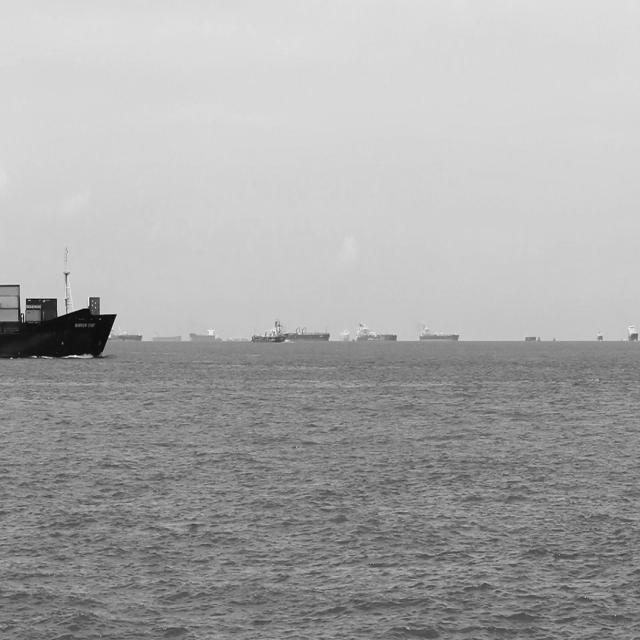ship: (0, 243, 116, 362), (356, 316, 398, 344), (415, 322, 462, 344), (105, 322, 144, 346), (284, 325, 331, 343), (250, 322, 286, 344), (187, 325, 223, 345), (622, 319, 640, 347), (148, 333, 184, 346), (522, 328, 542, 351), (336, 323, 353, 347), (226, 334, 252, 346), (593, 325, 607, 345)
